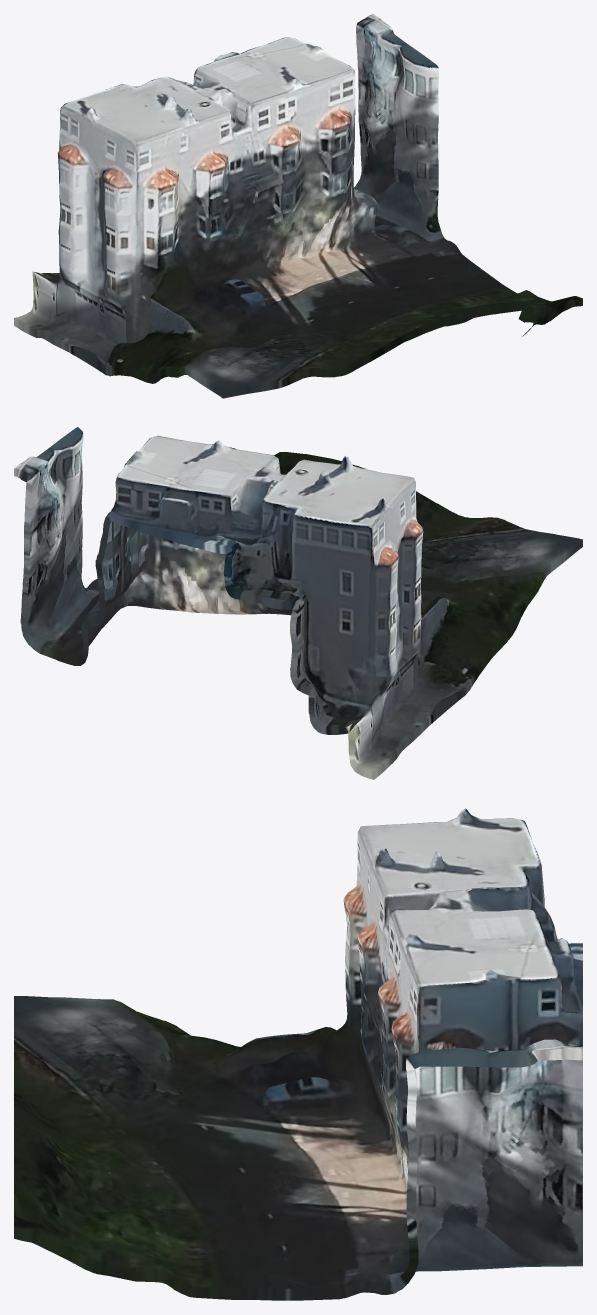
Rendered from z20-167752-405193-h0-yup-uvflip-v3-world.glb.
3 renders of one model, top to bottom at view 1: azimuth 30°, elevation 25°; view 2: azimuth 150°, elevation 25°; view 3: azimuth 270°, elevation 25°, orthographic. The views are drawn at different scales.
Bounding box in the file's own units: 30.16 × 19.6 × 30.32.
Materials: 1 (1 with a texture image).
